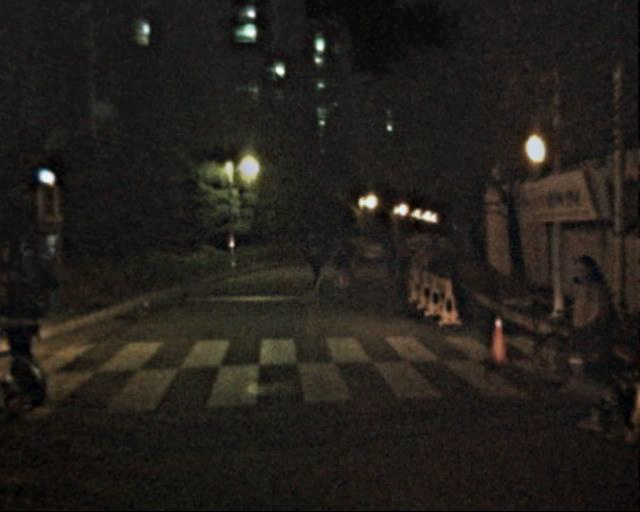person: (550, 253, 628, 434), (298, 230, 326, 298), (325, 232, 351, 296), (378, 233, 399, 284), (389, 235, 408, 282)
